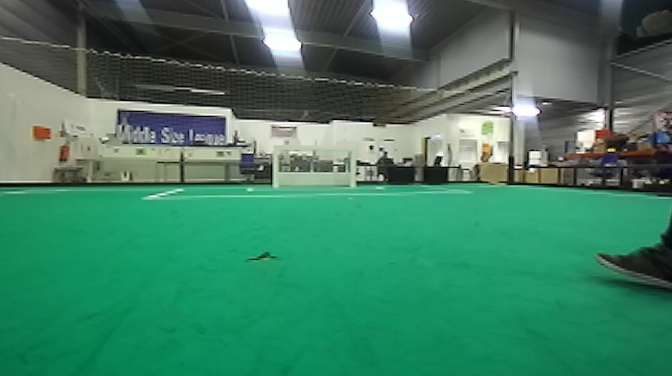goalpost: (269, 143, 278, 189), (350, 147, 354, 187)
